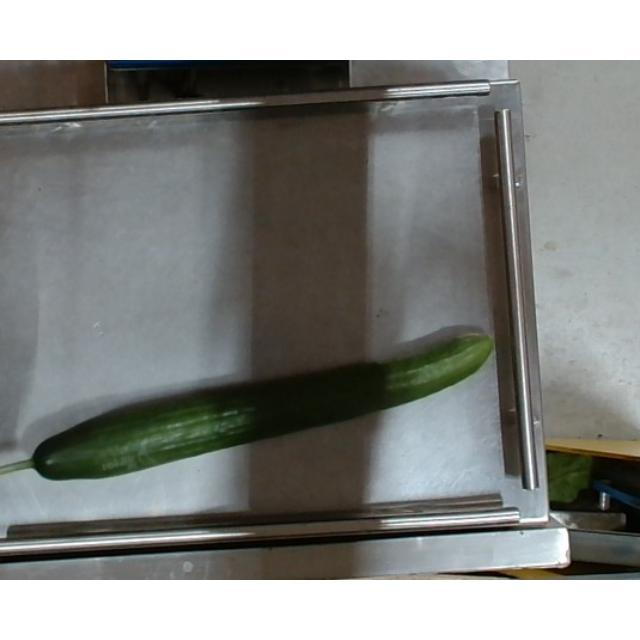cucumber: (1, 328, 505, 484)
